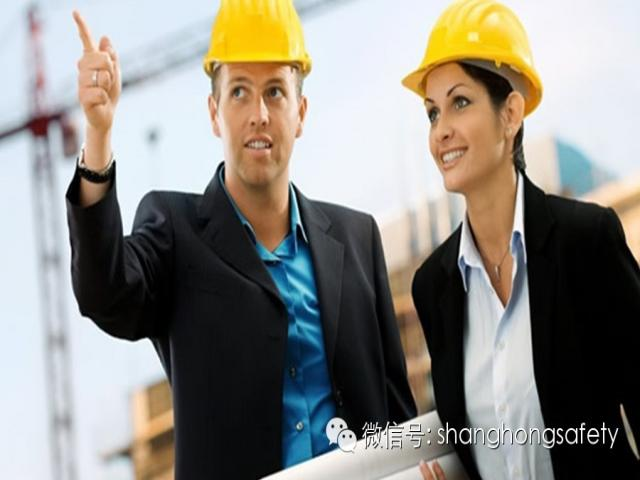Helmet: (397, 0, 548, 127), (198, 0, 318, 93)
